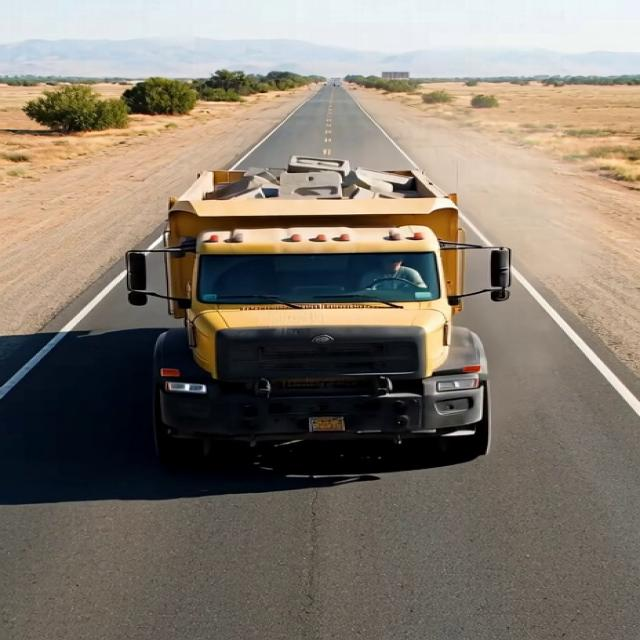Box: (172, 157, 476, 227)
Truck: (119, 136, 518, 491)
